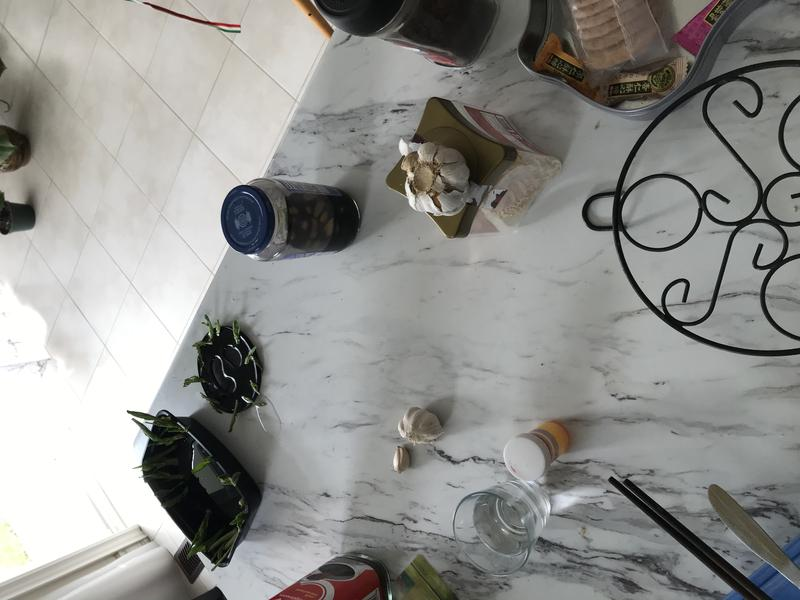garlic: (386, 132, 474, 222), (396, 400, 445, 448), (387, 443, 413, 477)
